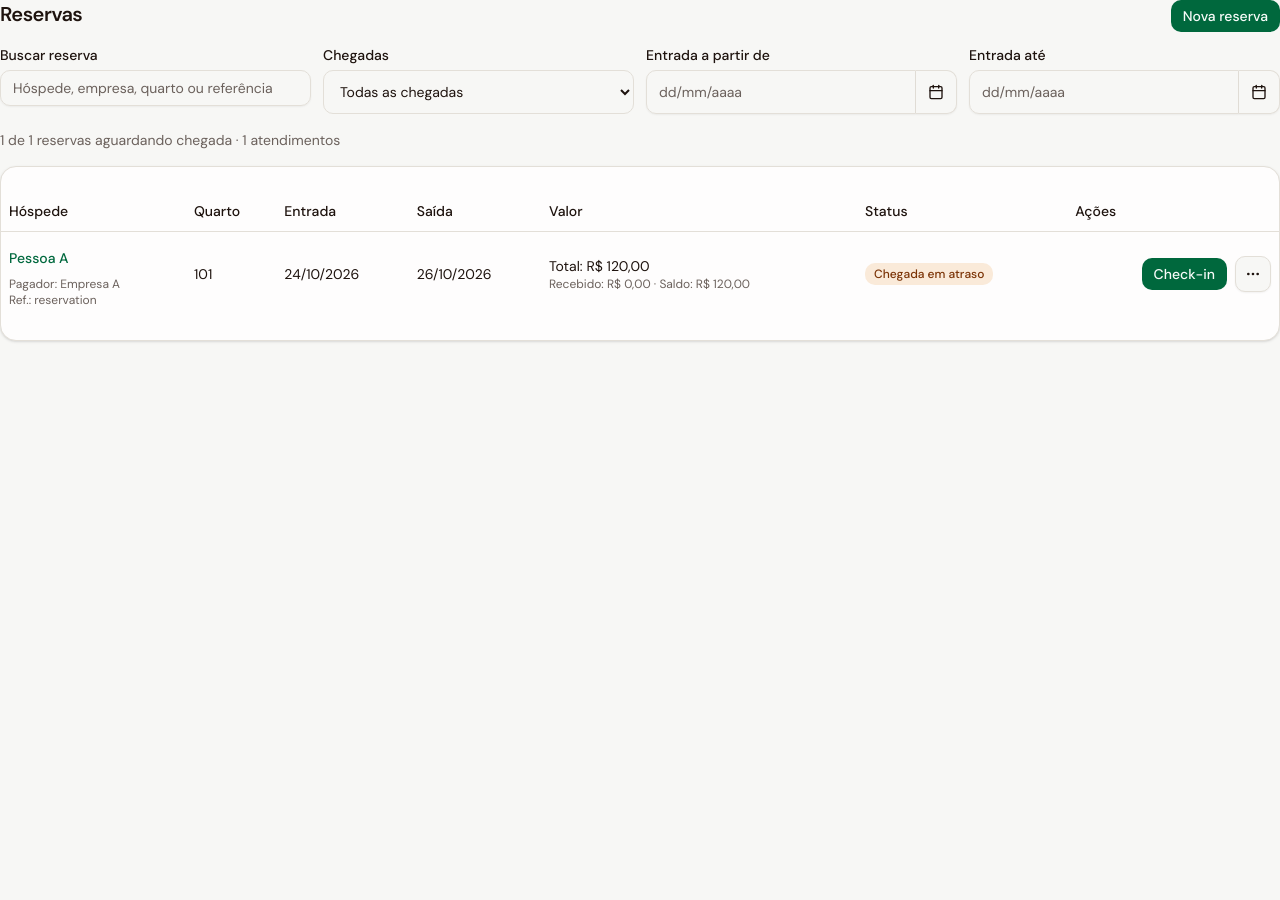
Test: Atendimento compartilhado › mantém entrada direta e recolhe editar, cancelar e ausência em um menu
Expected: the button with aria-label "Fazer check-in de" is shown, [1142, 258, 1227, 290]
Expected: the button "Editar" is not shown
Press the mouse on the button named "Mais ações da reserva reservation" at [1253, 274], box [1235, 256, 1271, 292]
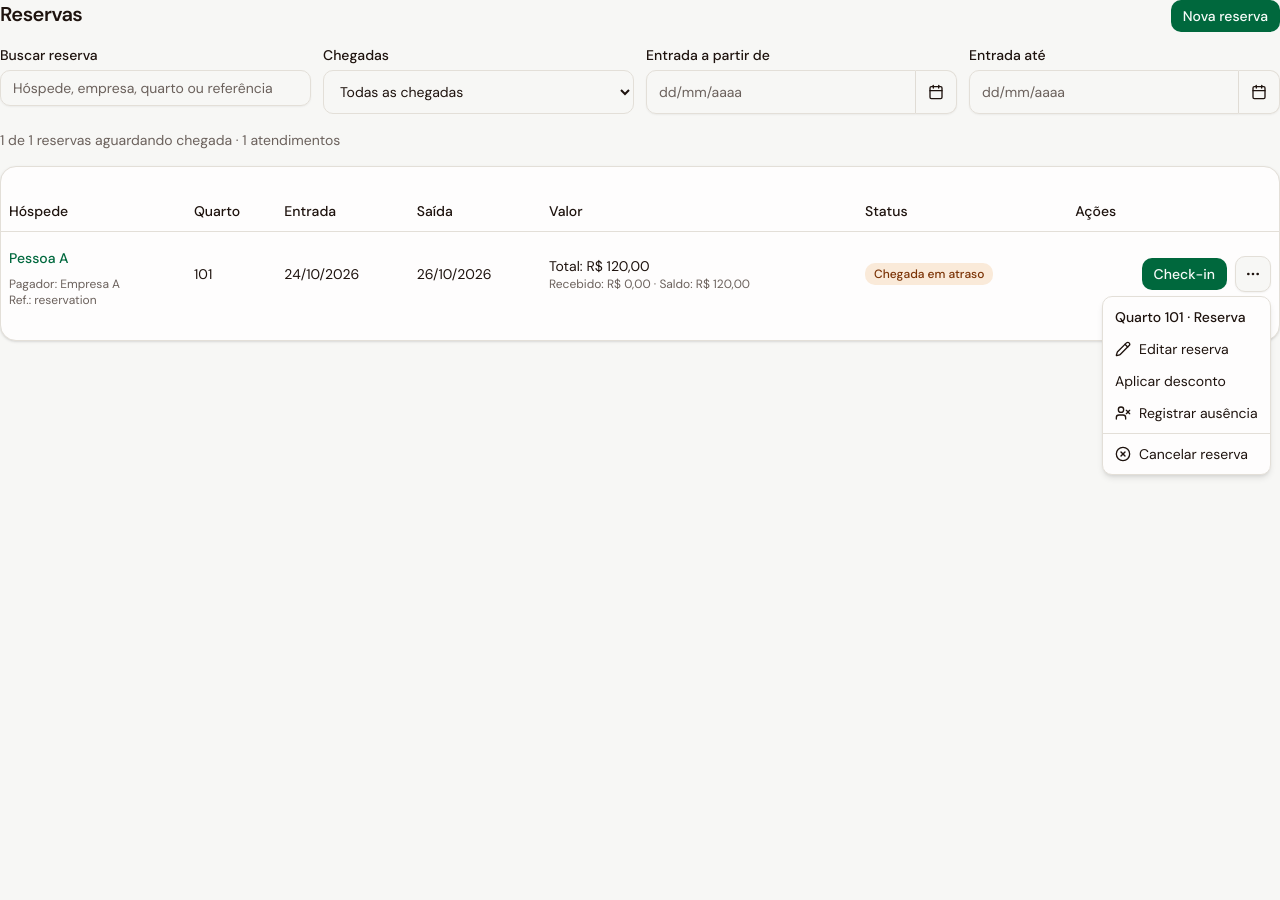
Now the menu item "Editar reserva" is shown, box [1115, 340, 1229, 358]
Now the menu item "Registrar ausência" is shown, box [1115, 404, 1258, 422]
Click the menu item "Cancelar reserva".
click(1182, 454)  # box [1115, 445, 1248, 463]
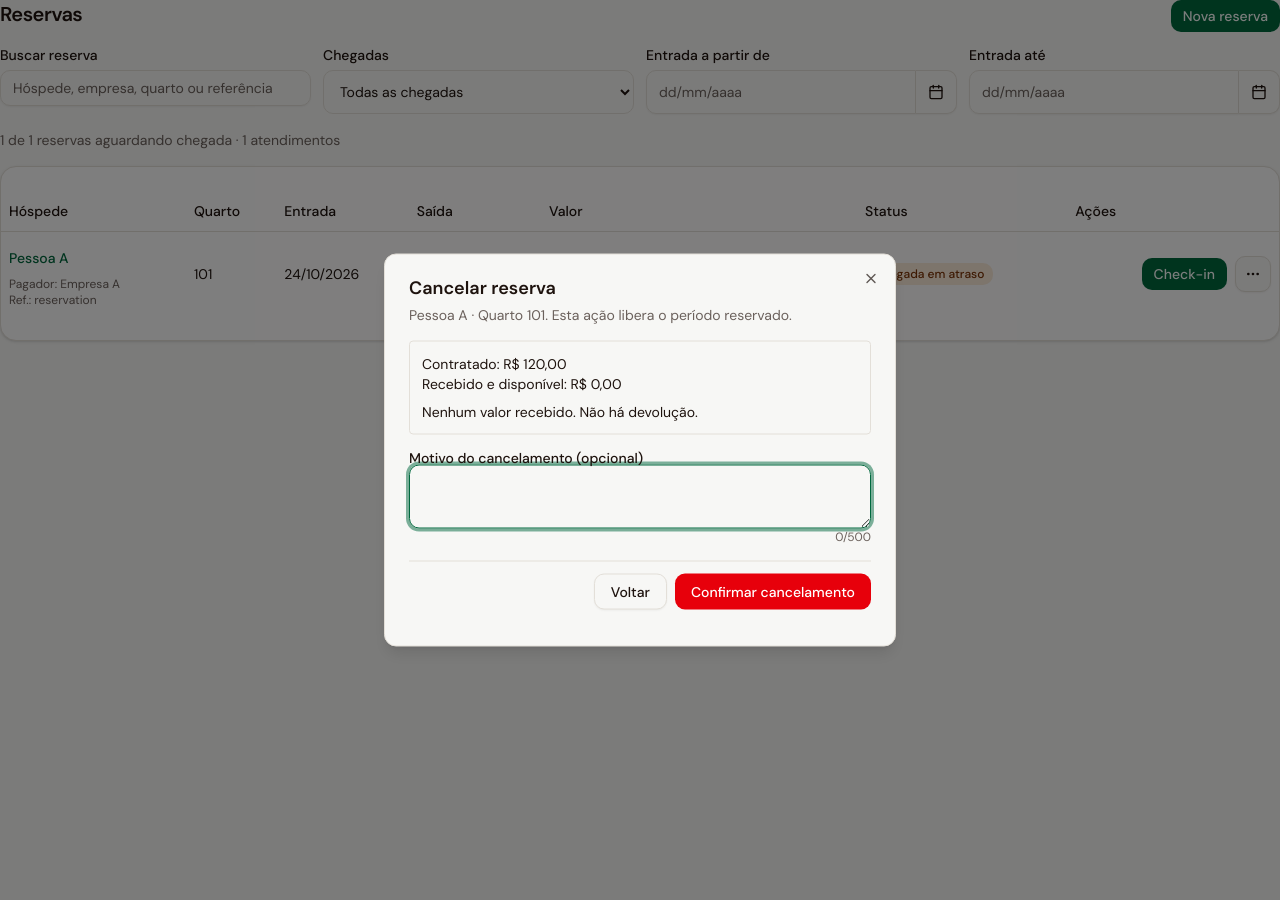
Now the dialog "Cancelar reserva" is shown, box [384, 254, 896, 646]
